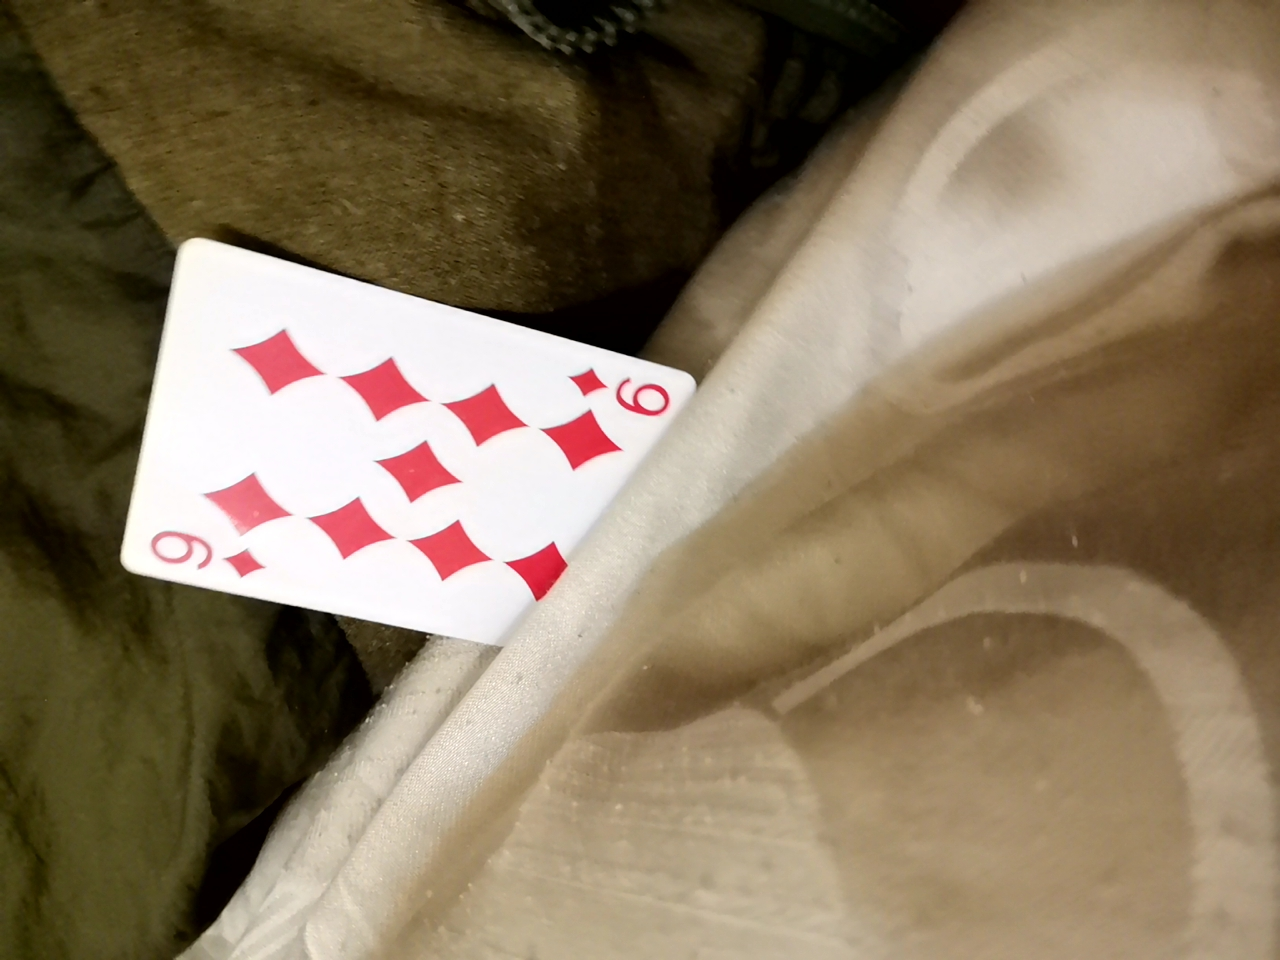fk 9: (81, 236, 700, 643)
